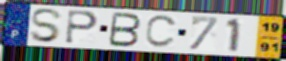1: (224, 18, 242, 54)
7: (189, 15, 220, 52)
B: (106, 11, 143, 49)
C: (143, 14, 180, 50)
P: (64, 9, 101, 46)
S: (28, 8, 65, 44)
